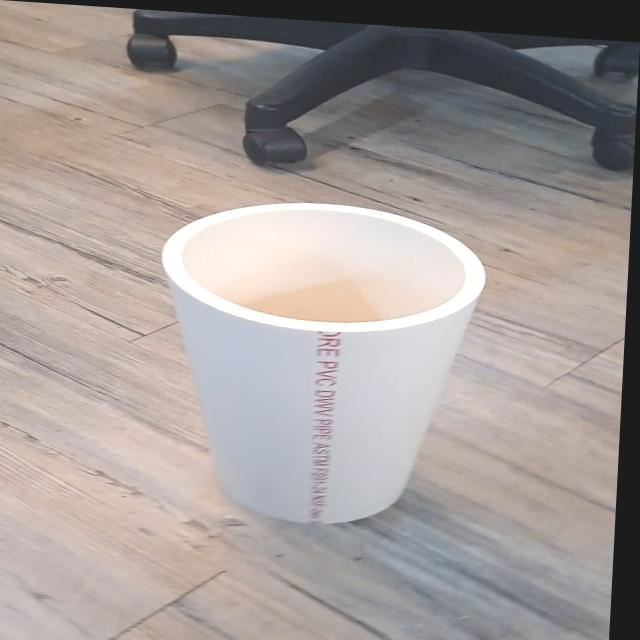CORAL: (140, 192, 499, 541)
